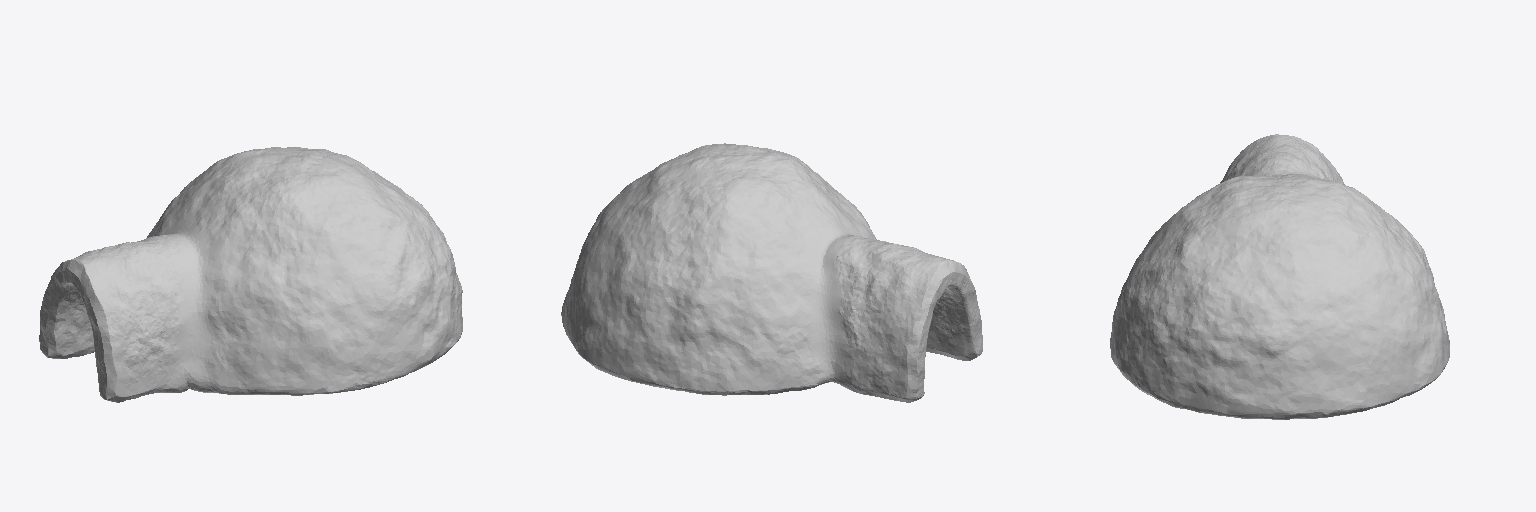
File: iglo.obj
The picture shows the model from 3 angles: view 1: azimuth 30°, elevation 25°; view 2: azimuth 150°, elevation 25°; view 3: azimuth 270°, elevation 25°; orthographic projection.
Visible parts, largest first — view 1: Object_2; view 2: Object_2; view 3: Object_2.
Boxes of the visible parts, <box> form: Object_2: <box>39,147,462,402</box>; Object_2: <box>561,143,982,402</box>; Object_2: <box>1110,134,1449,419</box>.
Bounding box in the file's own units: 7.34 × 3.27 × 5.88.